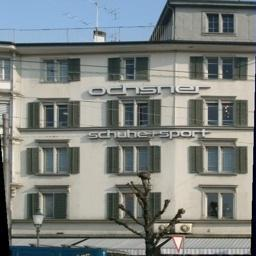building: (20, 2, 255, 256)
